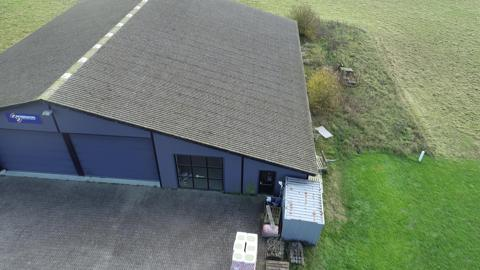RockwoolPallet: (231, 229, 260, 270)
